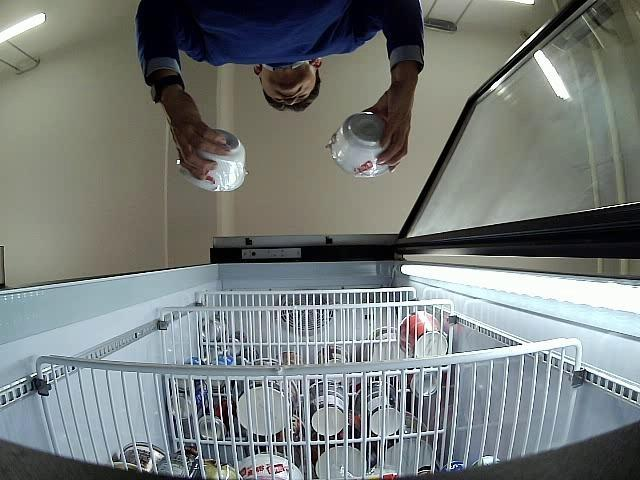09_yukGaeJang: (177, 128, 246, 192), (332, 112, 388, 177)
